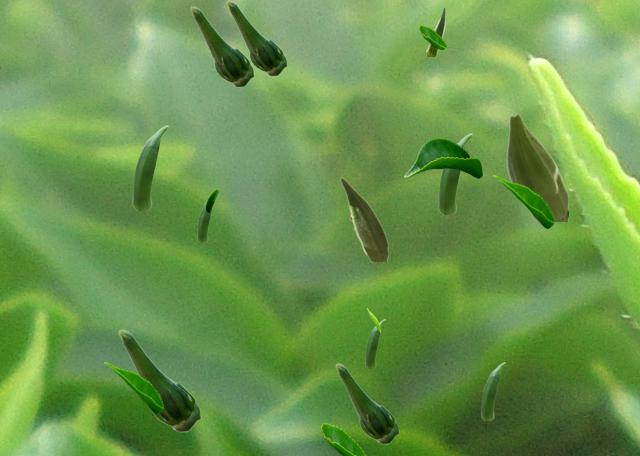okra: (118, 329, 200, 431), (506, 113, 567, 220), (190, 6, 253, 86), (335, 363, 398, 443), (226, 0, 286, 75), (340, 177, 387, 261), (132, 125, 167, 209), (438, 133, 471, 213), (481, 362, 504, 419), (365, 319, 384, 367), (426, 7, 444, 55), (197, 200, 212, 241)
